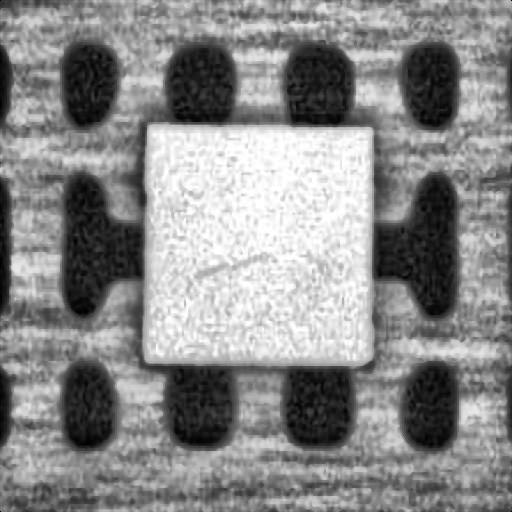DIE_CRACK: (193, 242, 273, 278)
